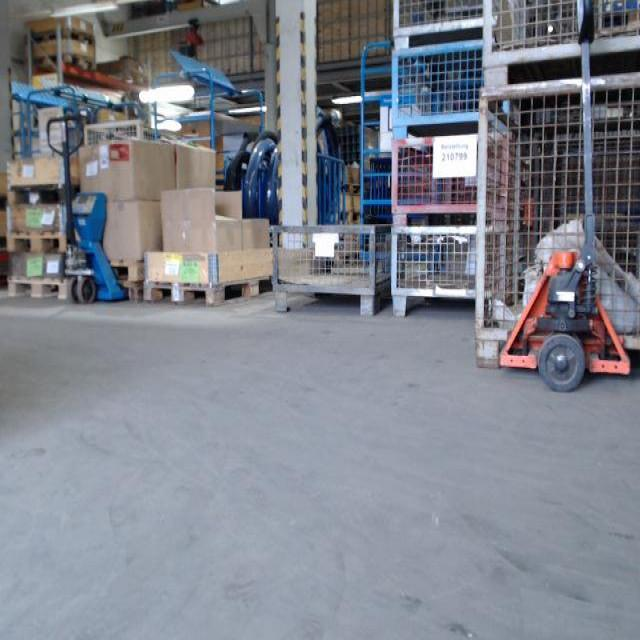pallet: (143, 275, 275, 310), (6, 273, 76, 305), (4, 228, 71, 258), (6, 182, 80, 209), (29, 49, 96, 73), (28, 28, 95, 49)
pallet_truck: (489, 2, 638, 395), (41, 106, 132, 312)
stillage: (468, 77, 638, 384), (469, 1, 639, 89), (273, 213, 396, 318), (387, 41, 495, 139), (380, 133, 493, 226), (386, 224, 490, 325), (383, 0, 499, 51), (84, 116, 151, 150)
